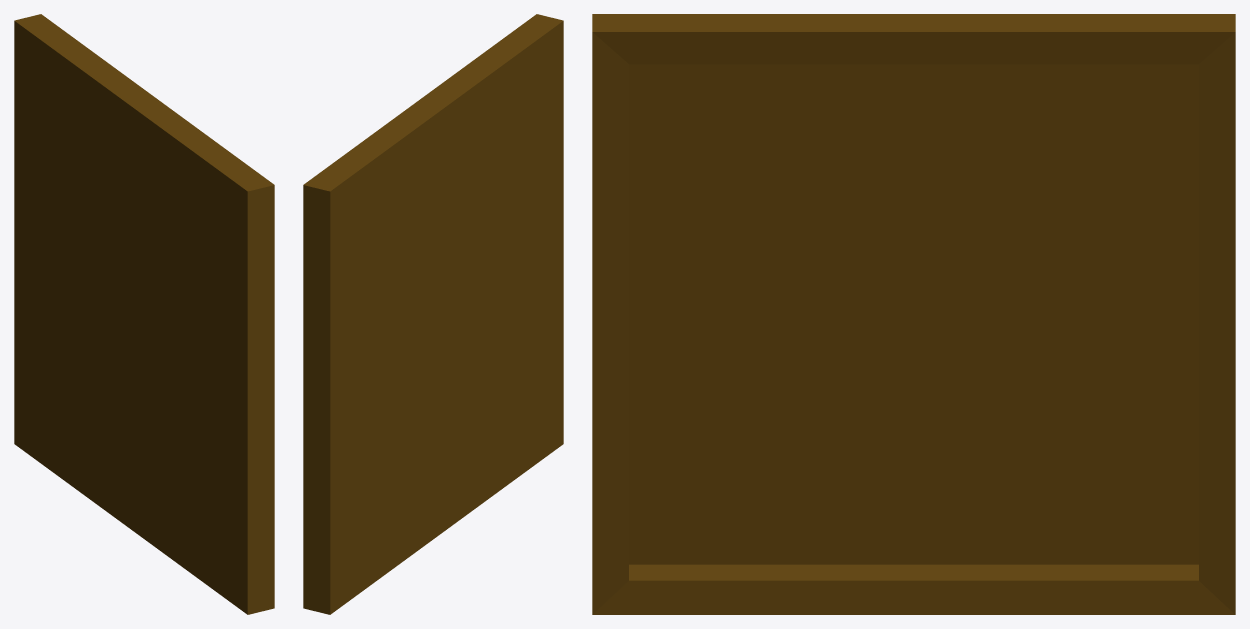
Rendered from pictureframe01.obj.
3 views of the same model, side by side, from view 1: azimuth 30°, elevation 25°; view 2: azimuth 150°, elevation 25°; view 3: azimuth 270°, elevation 25° (orthographic). The views are drawn at different scales.
Visible parts, largest first — view 1: Cube_Cube.001; view 2: Cube_Cube.001; view 3: Cube_Cube.001.
Part boxes in pixels (<box>): Cube_Cube.001: <box>14,14,274,614</box>; Cube_Cube.001: <box>303,14,563,614</box>; Cube_Cube.001: <box>592,14,1235,614</box>.
Size of the model in its own units: 0.02 by 0.3 by 0.3.
